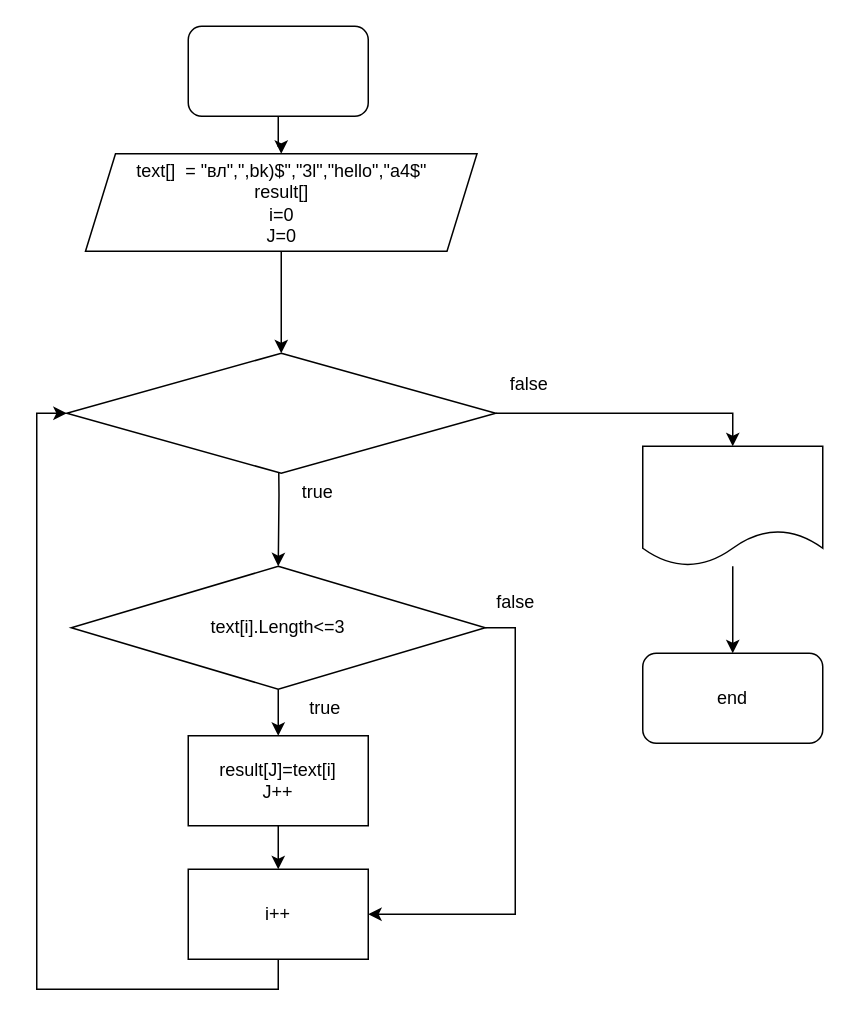
The diagram is 849 pixels wide and 1028 high, and some of its shapes have lost their labels. Here are the shapes that lost their labels. From the top down, the box of each, then its label:
(187, 25, 368, 116): start
(65, 352, 496, 473): i < text.Length
(641, 445, 823, 566): result[]
